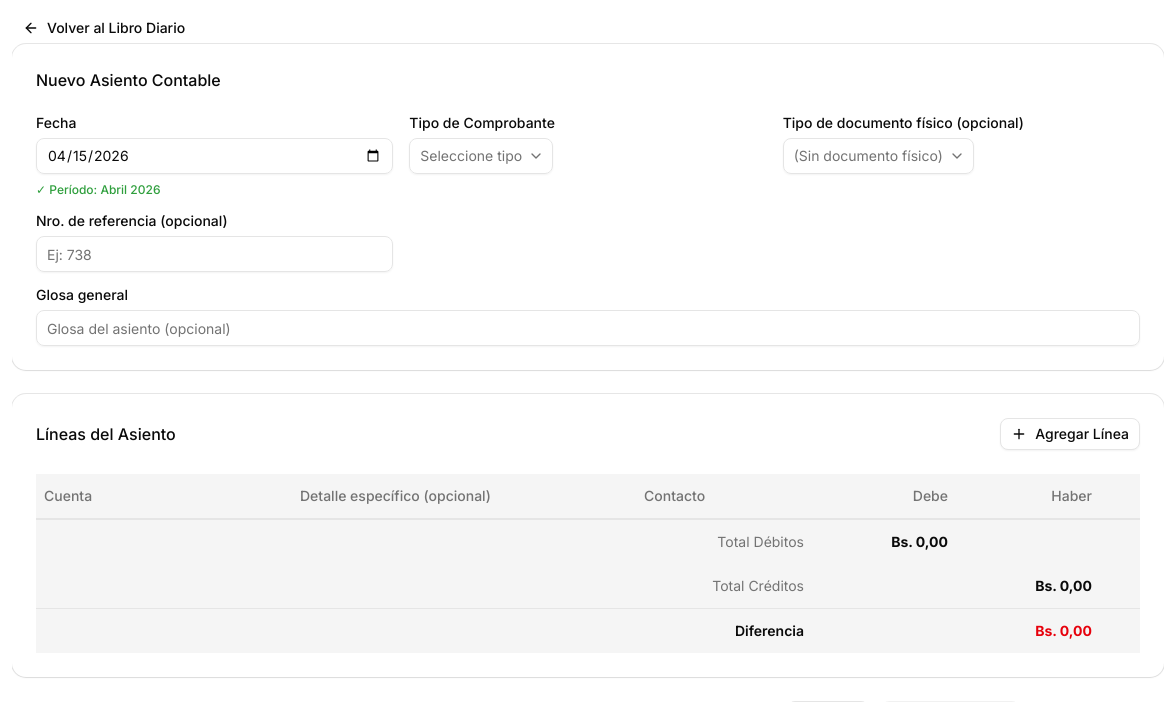
JF-T05 — Covered date after uncovered: warning hidden, hint re-derived › warning banner disappears and hint shows period name when date returns to a covered value
Type "2026-06-15" into the date field labelled "Fecha" at (215, 156), box [36,138,393,174]
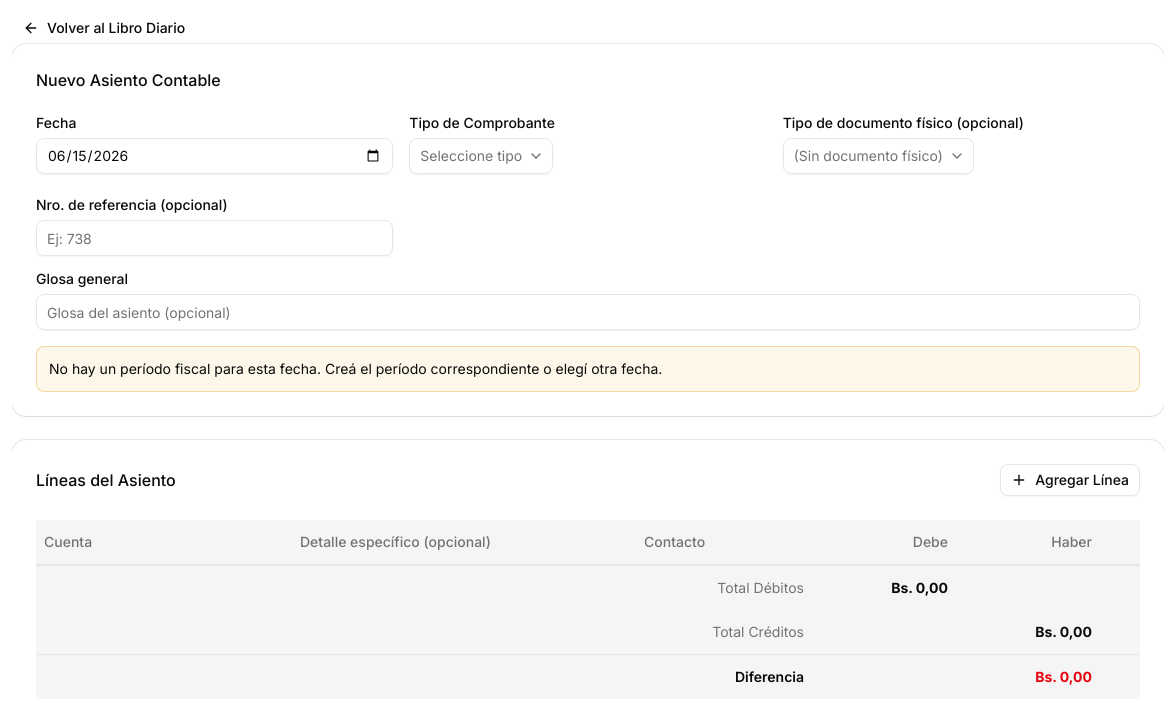
Expected: the message is shown, [36,346,1140,392]
Type "2026-04-20" into the date field labelled "Fecha" at (215, 156), box [36,138,393,174]
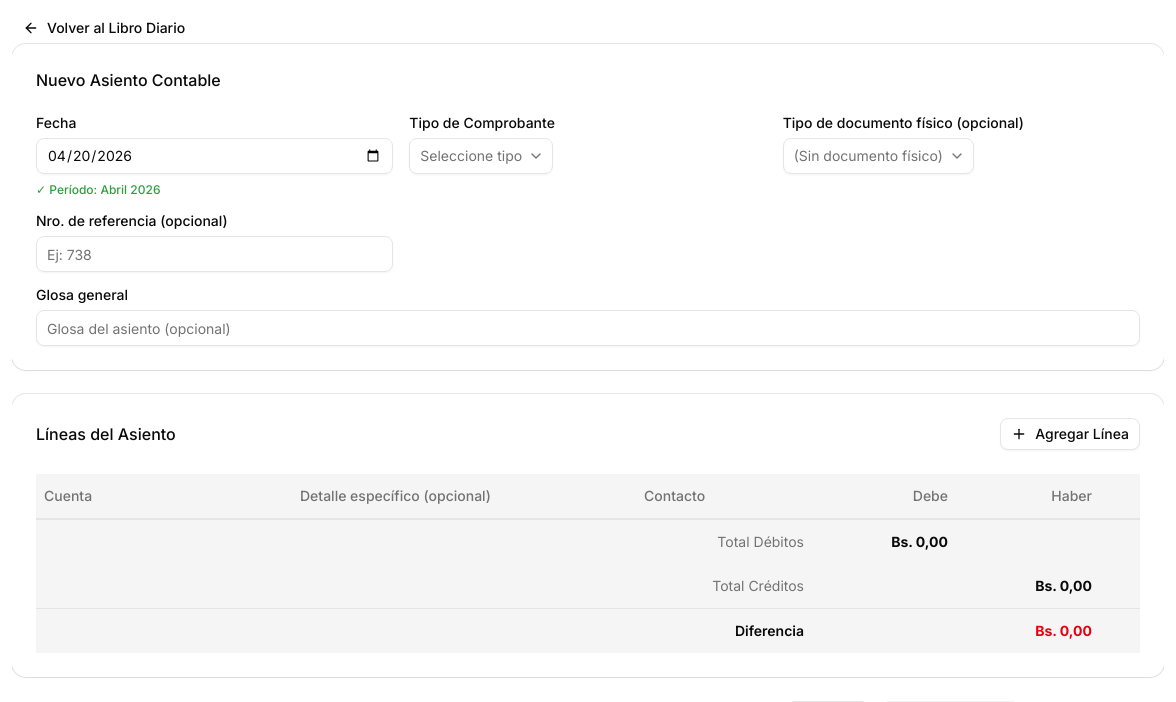
Expected: the message is gone
Expected: the text with test id "period-hint" shows "Período: Abril 2026", [36,182,160,197]
